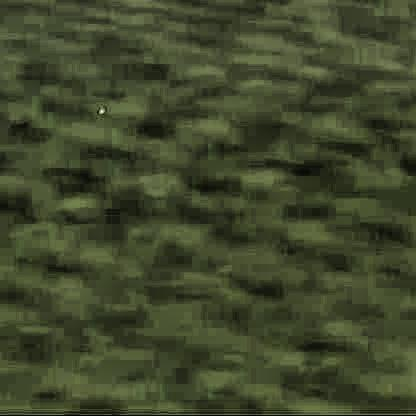golfball: (96, 105, 101, 110)
